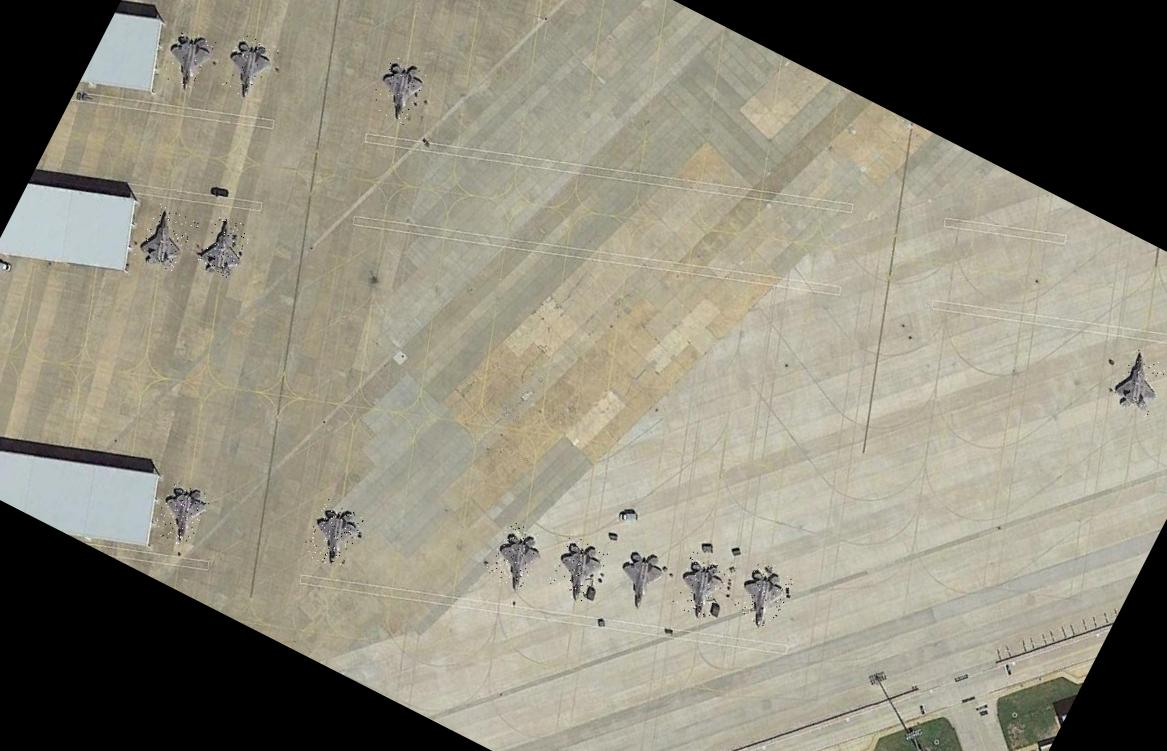A15: (728, 559, 796, 632), (666, 550, 733, 624), (605, 539, 672, 613), (212, 30, 279, 104), (544, 532, 610, 605), (482, 519, 548, 592), (300, 497, 366, 570), (364, 53, 430, 126), (152, 22, 217, 95), (132, 202, 198, 273), (149, 477, 212, 548), (1107, 346, 1167, 418), (194, 212, 254, 280)
